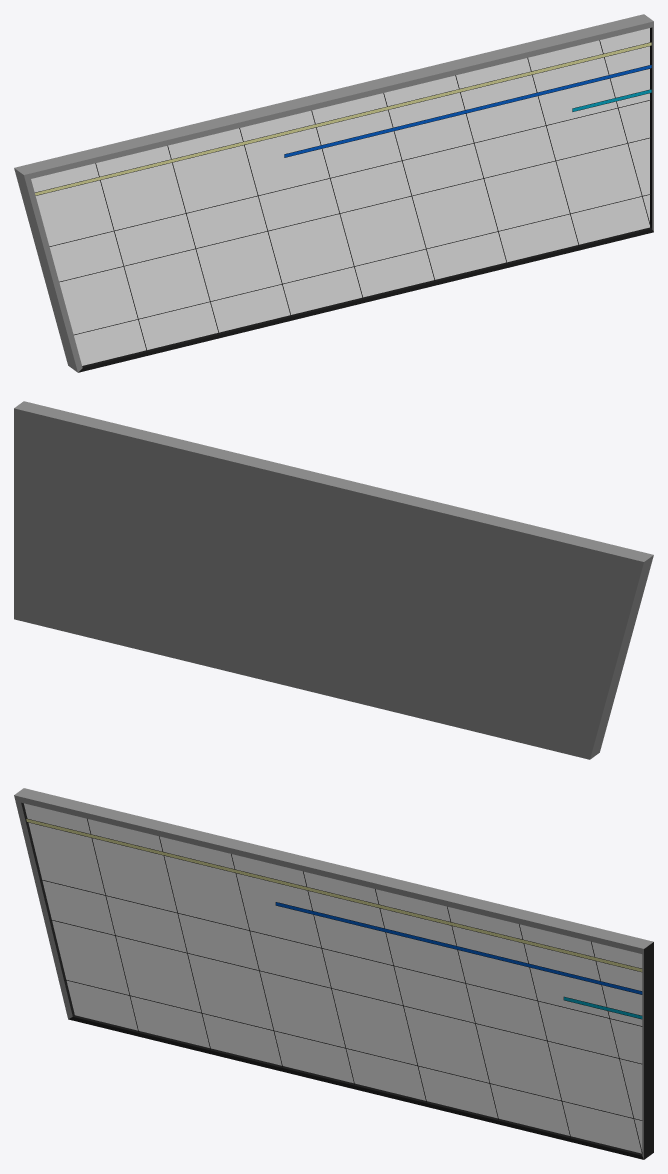
The model's file is Wall_add_32x11_001_L1.fbx.
3 views of the same model, one above another, from view 1: azimuth 30°, elevation 25°; view 2: azimuth 150°, elevation 25°; view 3: azimuth 330°, elevation 25° (orthographic).
Parts seen in each view (by area): view 1: Wall_add_32x11_001_L1; view 2: Wall_add_32x11_001_L1; view 3: Wall_add_32x11_001_L1.
Part boxes in pixels (x1,y1,x2,y2): Wall_add_32x11_001_L1: (14, 14, 653, 372); Wall_add_32x11_001_L1: (14, 401, 653, 759); Wall_add_32x11_001_L1: (14, 788, 653, 1159).
Size of the model in its own units: 35.01 by 11.2 by 0.9517.
